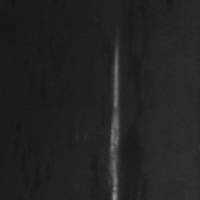scratches: (104, 40, 126, 199)
